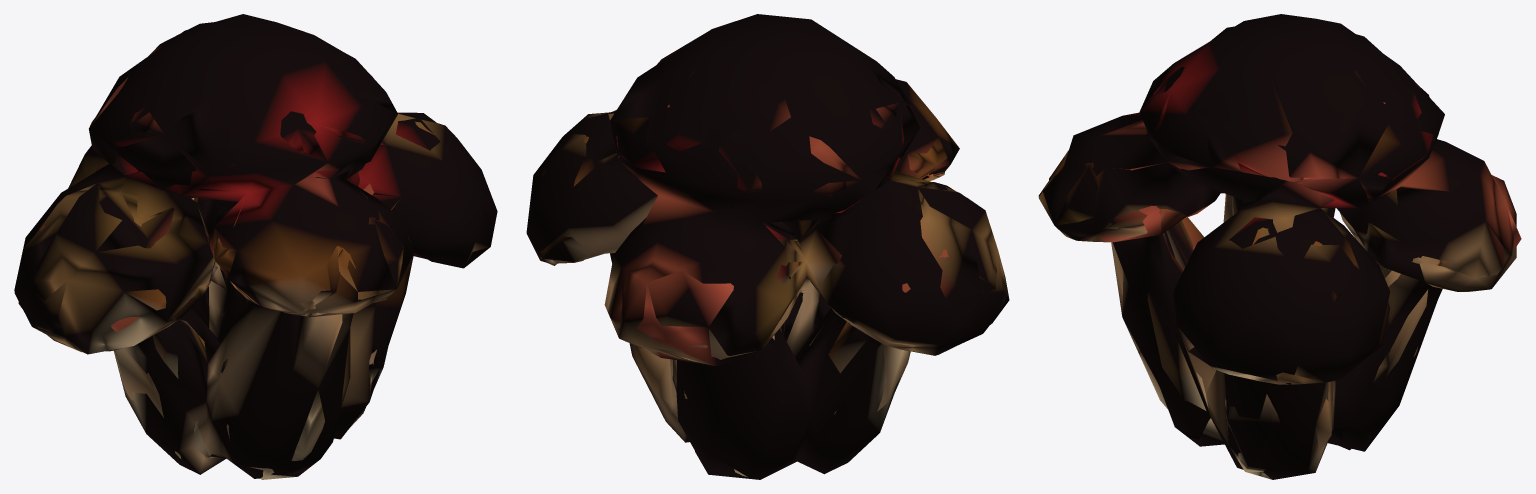
Rendered from gen3d-mushroom-cluster-lod0.glb.
3 views of the same model, side by side, from view 1: azimuth 30°, elevation 25°; view 2: azimuth 150°, elevation 25°; view 3: azimuth 270°, elevation 25° (orthographic).
Parts seen in each view (by area): view 1: part_0; view 2: part_0; view 3: part_0.
Boxes of the visible parts, box(x1,y1,x2,y2) form: part_0: box(14, 14, 497, 479); part_0: box(526, 14, 1009, 479); part_0: box(1038, 14, 1521, 479).
Bounding box in the file's own units: 1.13 × 1 × 1.07.
